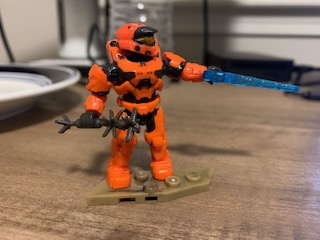spartan: (76, 22, 221, 193)
